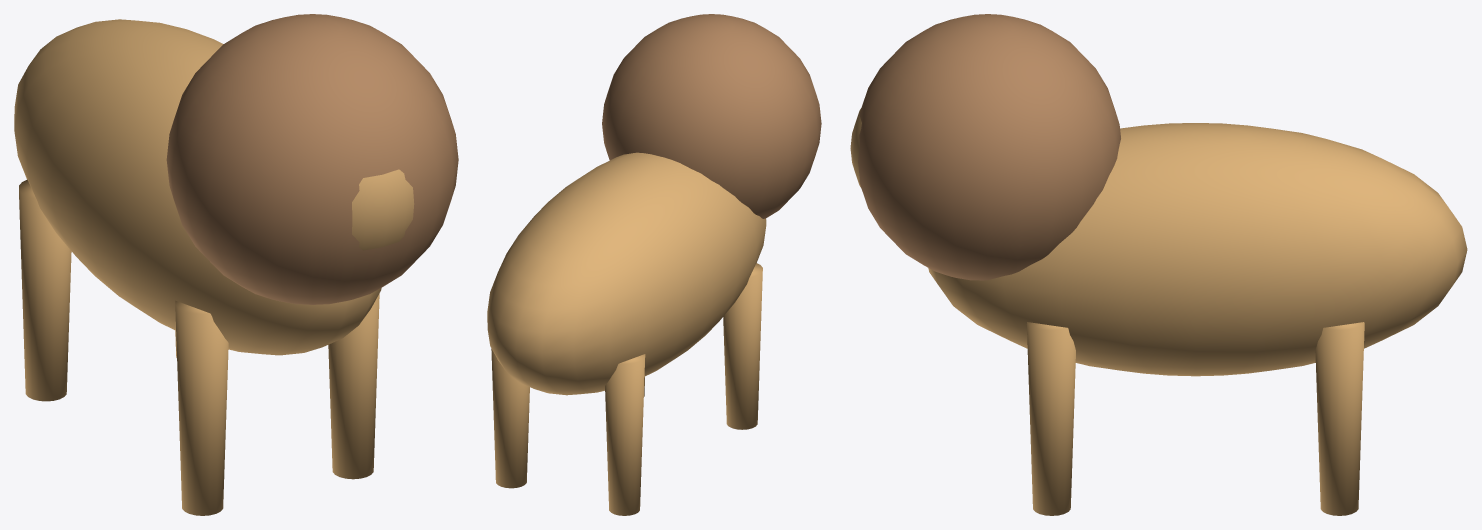
Rendered from lion.glb.
3 views of the same model, side by side, from view 1: azimuth 30°, elevation 25°; view 2: azimuth 150°, elevation 25°; view 3: azimuth 270°, elevation 25° (orthographic). The views are drawn at different scales.
Parts seen in each view (by area): view 1: mane, body, leg_-0.25_0.45, leg_-0.25_-0.45, leg_0.25_0.45, head; view 2: body, mane, leg_-0.25_-0.45, leg_-0.25_0.45, leg_0.25_-0.45; view 3: body, mane, leg_0.25_-0.45, leg_0.25_0.45.
Part boxes in pixels (x1,y1,x2,y2): mane: (166,14,458,304); body: (14,19,381,355); leg_-0.25_0.45: (175,300,228,515); leg_-0.25_-0.45: (19,179,71,401); leg_0.25_0.45: (328,293,379,479); head: (352,169,414,250); body: (487,152,766,395); mane: (602,14,821,218); leg_-0.25_-0.45: (605,354,645,515); leg_-0.25_0.45: (723,263,762,429); leg_0.25_-0.45: (491,348,529,488); body: (928,123,1467,376); mane: (858,14,1120,280); leg_0.25_-0.45: (1315,322,1364,515); leg_0.25_0.45: (1026,322,1075,515).
Bounding box in the file's own units: 0.84 × 1.54 × 1.93.
